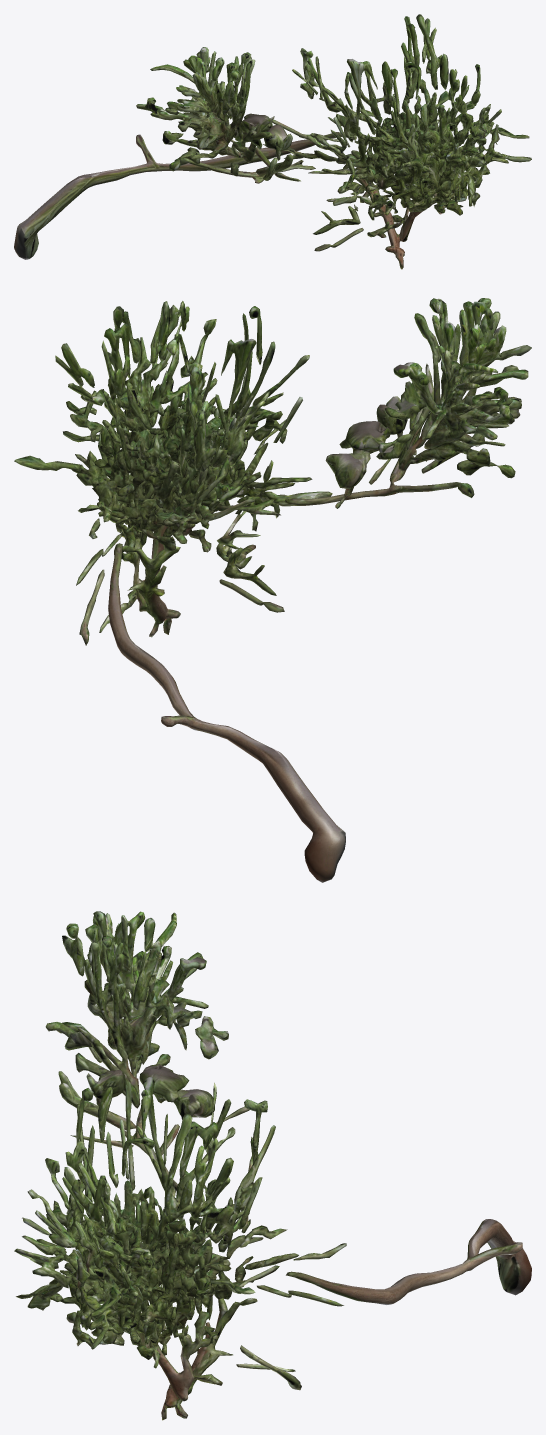
File: Rosemary.glb
3 views of the same model, one above another, from view 1: azimuth 30°, elevation 25°; view 2: azimuth 150°, elevation 25°; view 3: azimuth 270°, elevation 25° (orthographic). The views are drawn at different scales.
Bounding box in the file's own units: 2 × 1.61 × 1.85.
Materials: 1 (1 with a texture image).
